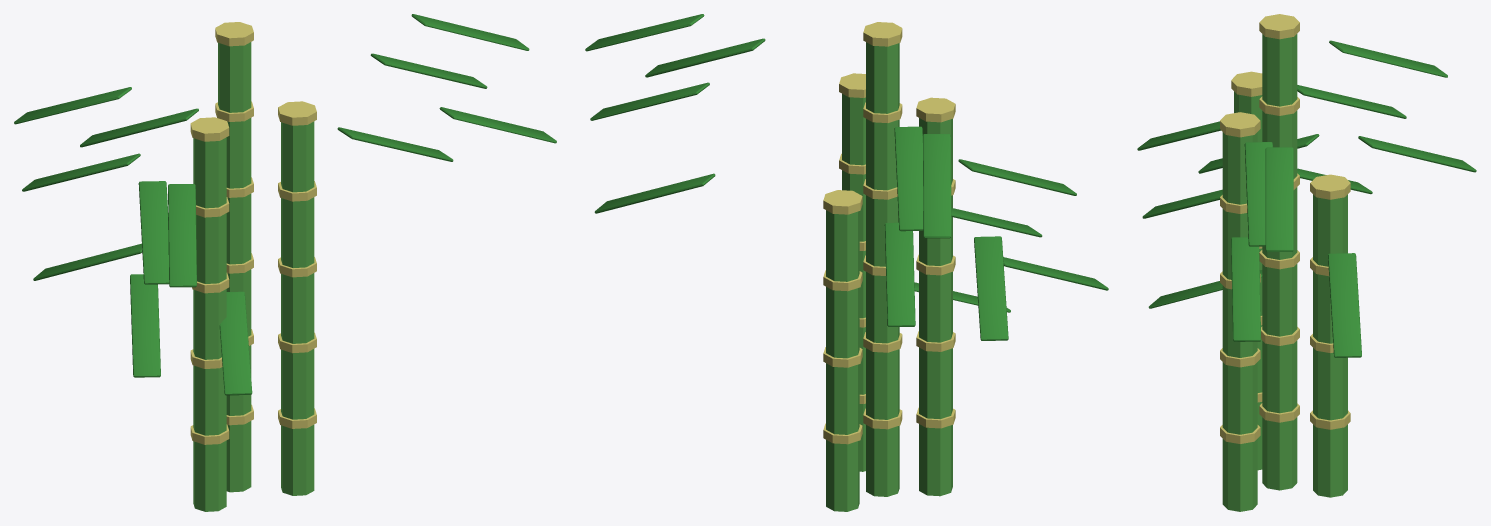
The model's file is LandBamboo.fbx.
3 views of the same model, side by side, from view 1: azimuth 30°, elevation 25°; view 2: azimuth 150°, elevation 25°; view 3: azimuth 270°, elevation 25° (orthographic).
Parts seen in each view (by area): view 1: LandBamboo; view 2: LandBamboo; view 3: LandBamboo.
Part boxes in pixels (x1=…): LandBamboo: x1=14, y1=14, x2=556, y2=511; LandBamboo: x1=585, y1=14, x2=1108, y2=511; LandBamboo: x1=1137, y1=14, x2=1476, y2=511.
Size of the model in its own units: 958 by 901 by 601.
